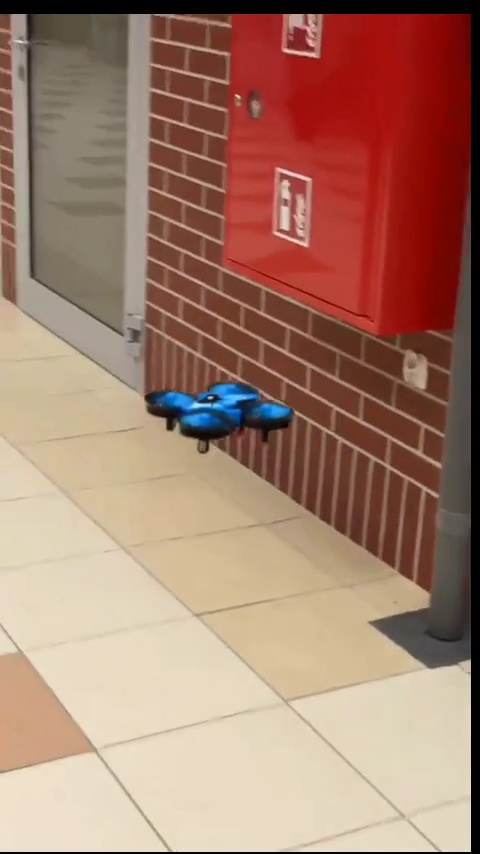drone: (154, 380, 292, 449)
